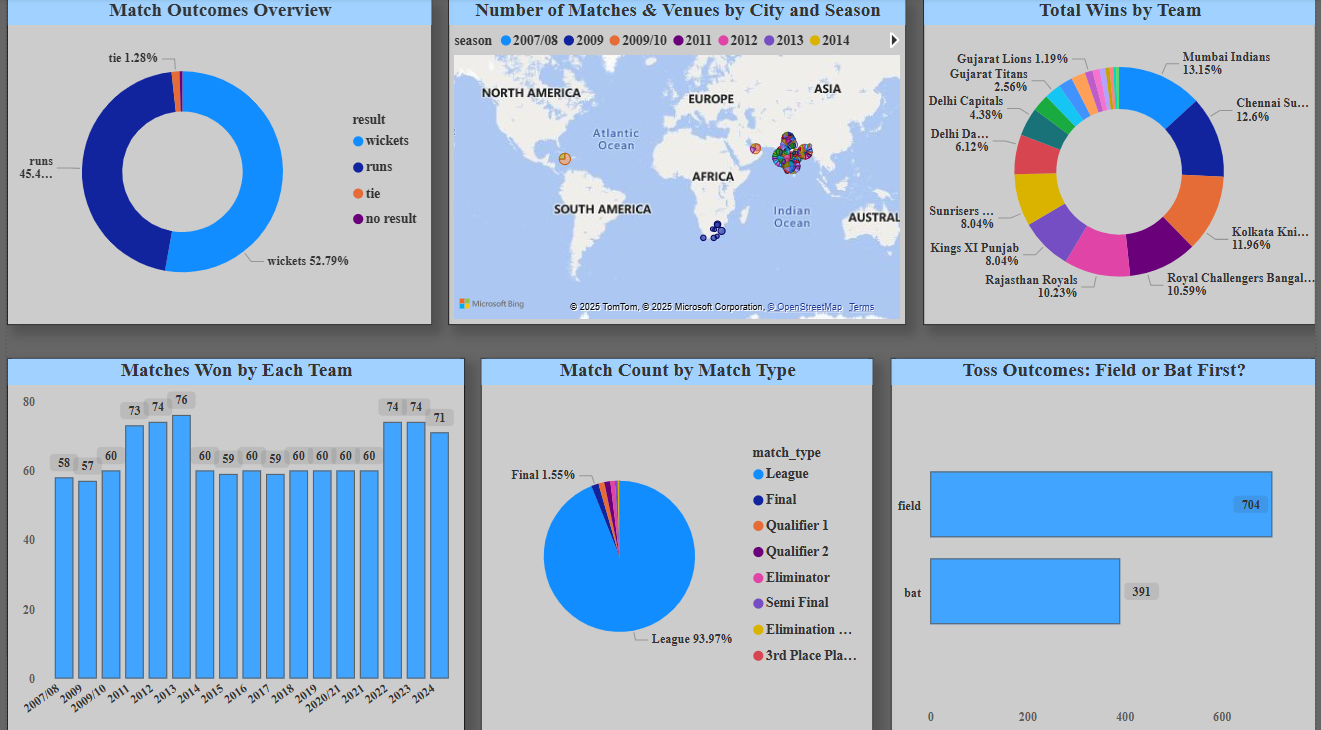

What the dashboard file says about the page in this screenshot:
{"tool":"powerbi","page":{"name":"Match Analysis","canvas":[1280,720],"ordinal":1},"visuals":[{"type":"columnChart","title":"Matches Won by Each Team","fields":{"Category":["matches.season"],"Y":["CountNonNull(matches.id)"]},"box":[0,352,448,368],"z":0},{"type":"donutChart","title":"Total Wins by Team","fields":{"Category":["matches.winner"],"Y":["matches.Total Matches"]},"box":[896,0,384,320],"z":1000},{"type":"barChart","title":"Toss Outcomes: Field or Bat First?","fields":{"Category":["matches.toss_decision"],"Y":["CountNonNull(matches.toss_decision)"]},"box":[864,352,416,368],"z":2000},{"type":"map","title":"Number of Matches & Venues by City and Season","fields":{"Category":["matches.city"],"Size":["CountNonNull(matches.city)"],"Series":["matches.season"]},"box":[432,0,448,320],"z":3000},{"type":"pieChart","title":"Match Count by Match Type","fields":{"Category":["matches.match_type"],"Y":["CountNonNull(matches.match_type)"]},"box":[464,352,384,368],"z":4000},{"type":"donutChart","title":"Match Outcomes Overview","fields":{"Category":["matches.result"],"Y":["matches.Total Matches"]},"box":[0,0,416,320],"z":4001}]}

Visuals, with their boxes in screenshot pixels (x1, y1, x2, y2), scaled from the page's 1280x720 canvas onto the 1321x730 screenshot:
"Matches Won by Each Team" columnChart: {"left": 0, "top": 357, "right": 462, "bottom": 729}
"Total Wins by Team" donutChart: {"left": 925, "top": 0, "right": 1320, "bottom": 324}
"Toss Outcomes: Field or Bat First?" barChart: {"left": 892, "top": 357, "right": 1320, "bottom": 729}
"Number of Matches & Venues by City and Season" map: {"left": 446, "top": 0, "right": 908, "bottom": 324}
"Match Count by Match Type" pieChart: {"left": 479, "top": 357, "right": 875, "bottom": 729}
"Match Outcomes Overview" donutChart: {"left": 0, "top": 0, "right": 429, "bottom": 324}
